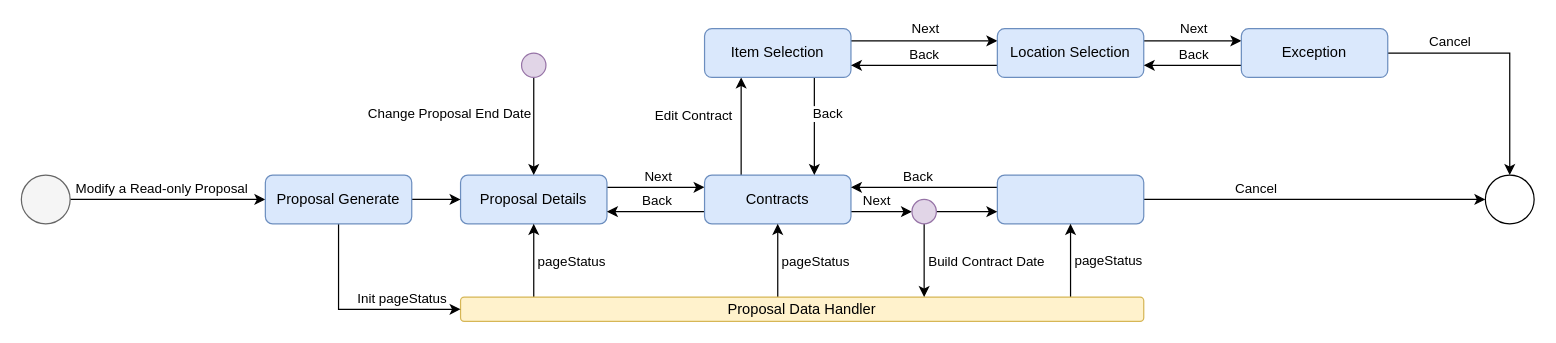
This 1556x343 diagram has some shape labels left out. The shapes that lost their labels are listed below. From the top down, each one's centre as x and y in pixels, then its label:
At point (45, 199): "Start".
At point (1070, 199): "Signoff".
At point (1509, 199): "End".
